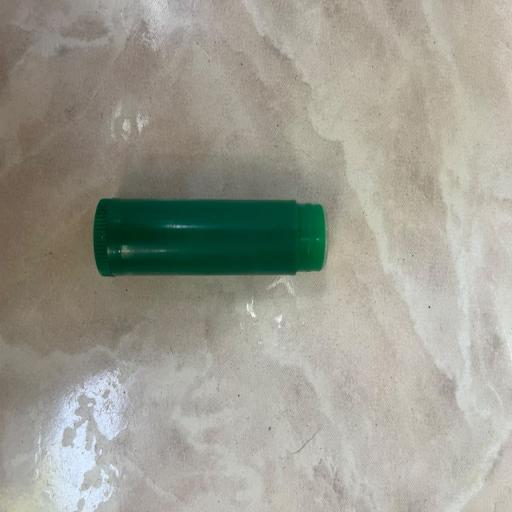HDPE: (90, 176, 358, 343)
